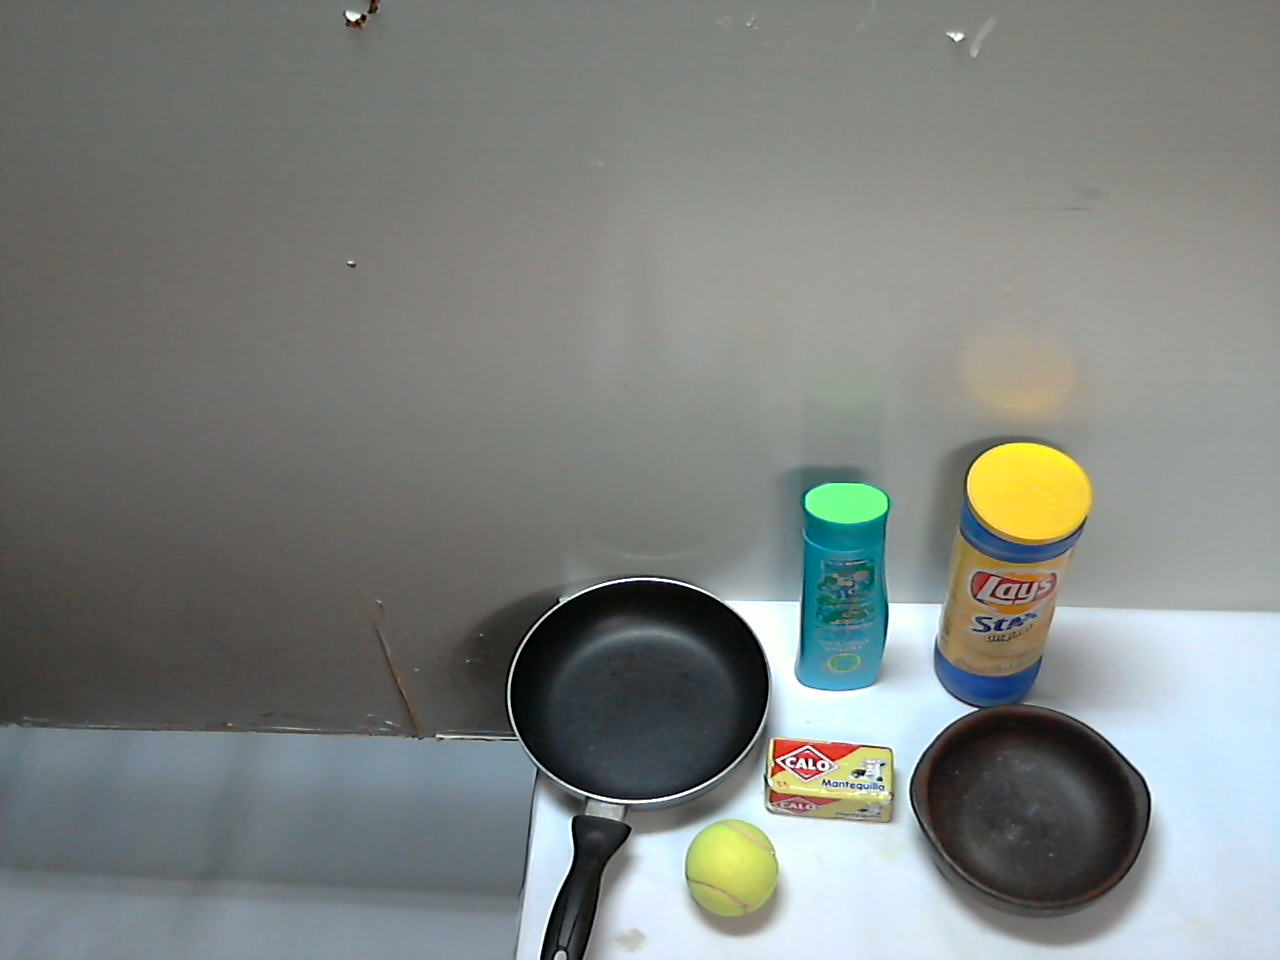cera: (736, 479, 882, 782)
cloroplano: (910, 548, 1136, 851)
esponja: (638, 791, 771, 951)
linterna: (501, 700, 623, 891)
mantequilla: (821, 847, 973, 960)
yogurt: (585, 489, 719, 775)
